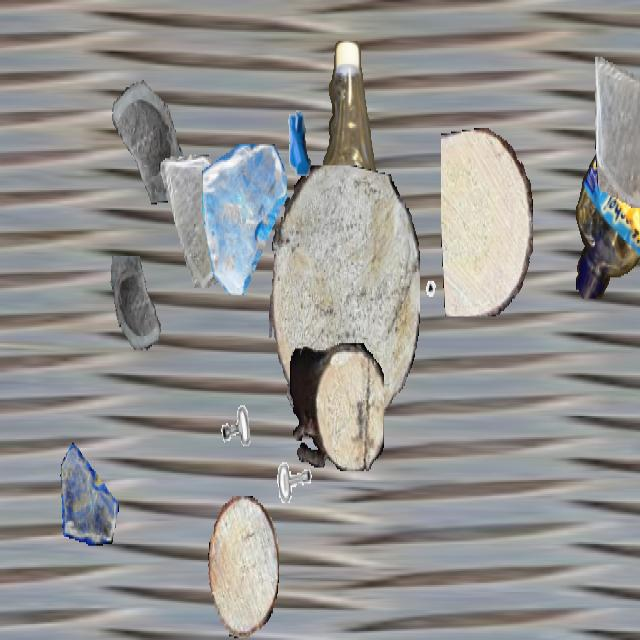glass: (202, 144, 286, 293), (102, 57, 184, 203), (158, 155, 232, 286), (595, 48, 640, 208), (107, 256, 169, 366), (60, 441, 118, 544)
metal: (207, 347, 267, 453), (270, 91, 326, 190), (274, 453, 320, 535), (422, 278, 462, 348)
plastic: (302, 41, 384, 393), (574, 137, 640, 297)
wood: (269, 166, 419, 436), (441, 128, 533, 316), (290, 343, 384, 471), (208, 496, 278, 638)
